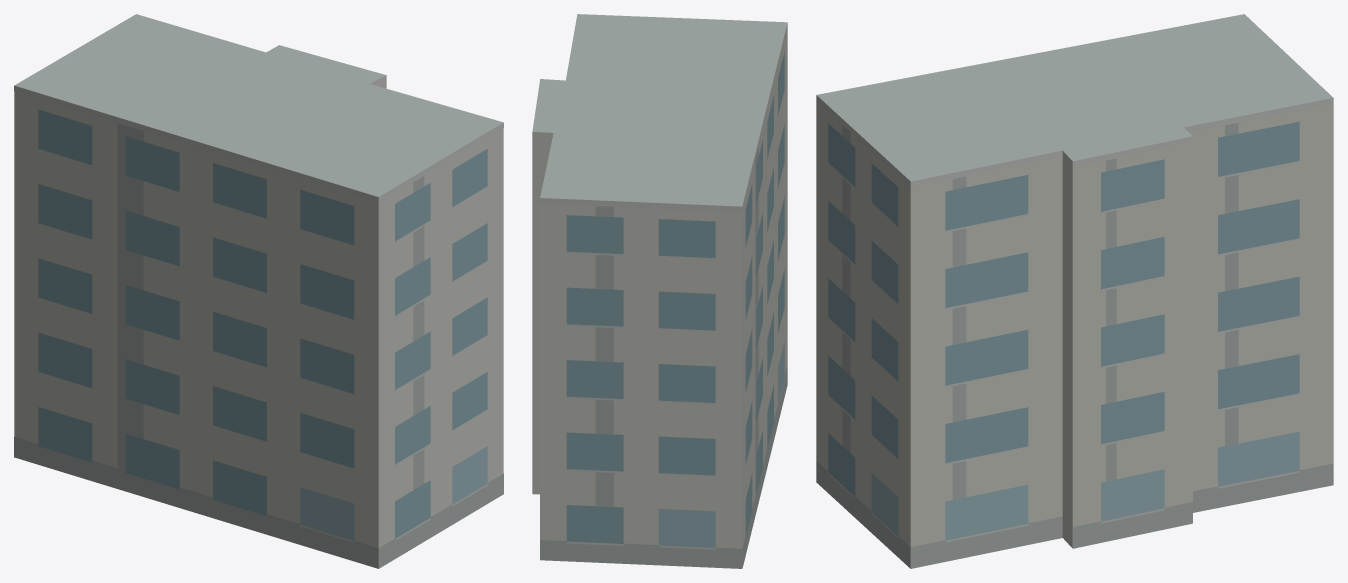
File: survey-upis-32876319.glb
3 renders of one model, left to right at view 1: azimuth 30°, elevation 25°; view 2: azimuth 150°, elevation 25°; view 3: azimuth 270°, elevation 25°, orthographic. The views are drawn at different scales.
Visible parts, largest first — view 1: survey-upis-32876319.tmp; view 2: survey-upis-32876319.tmp; view 3: survey-upis-32876319.tmp.
Part boxes in pixels (x1,y1,x2,y2): survey-upis-32876319.tmp: (14,14,503,568); survey-upis-32876319.tmp: (532,14,787,568); survey-upis-32876319.tmp: (816,14,1333,568).
Size of the model in its own units: 14.15 by 15.25 by 18.47.
